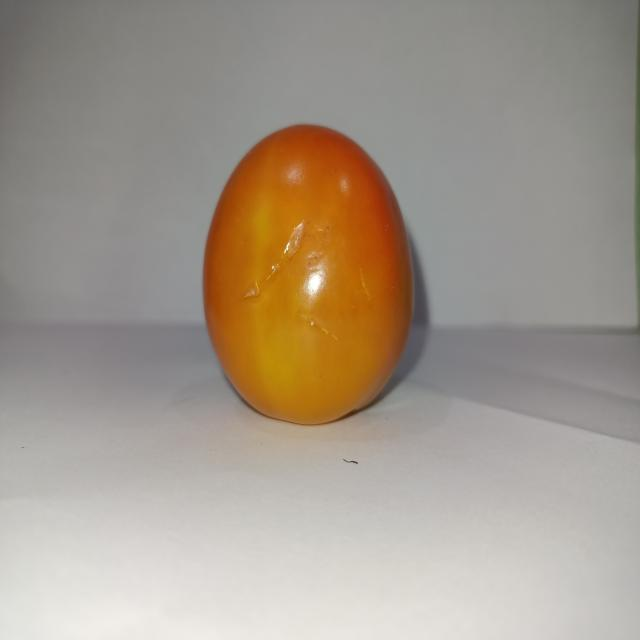Red: (201, 122, 415, 426)
